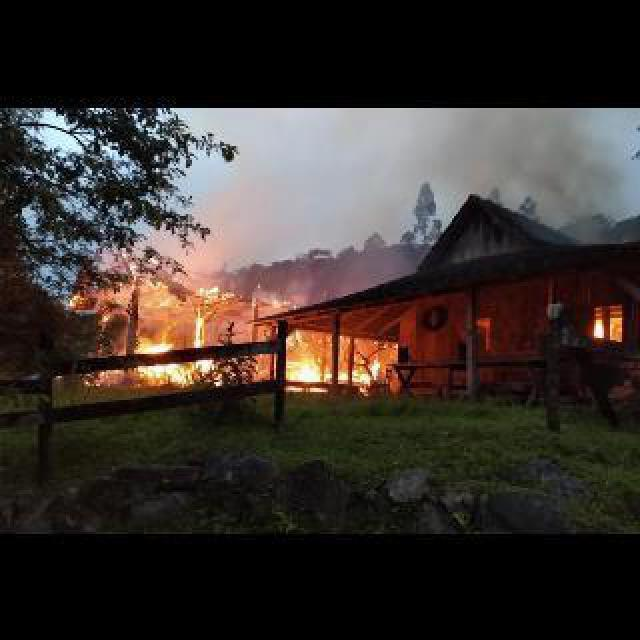Fire: (286, 354, 380, 392), (142, 356, 224, 384), (194, 310, 220, 344), (138, 338, 178, 352), (196, 284, 234, 298), (594, 320, 616, 340), (284, 326, 304, 346), (272, 294, 292, 306), (64, 294, 84, 304)
Smoke: (468, 108, 634, 244)
